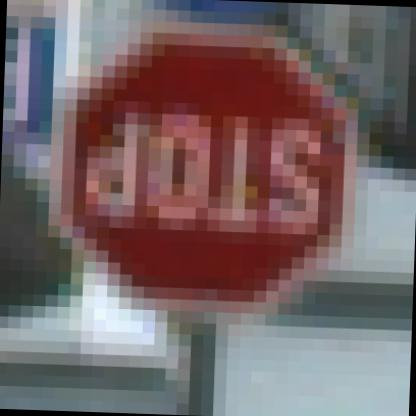stop: (28, 35, 374, 331)
